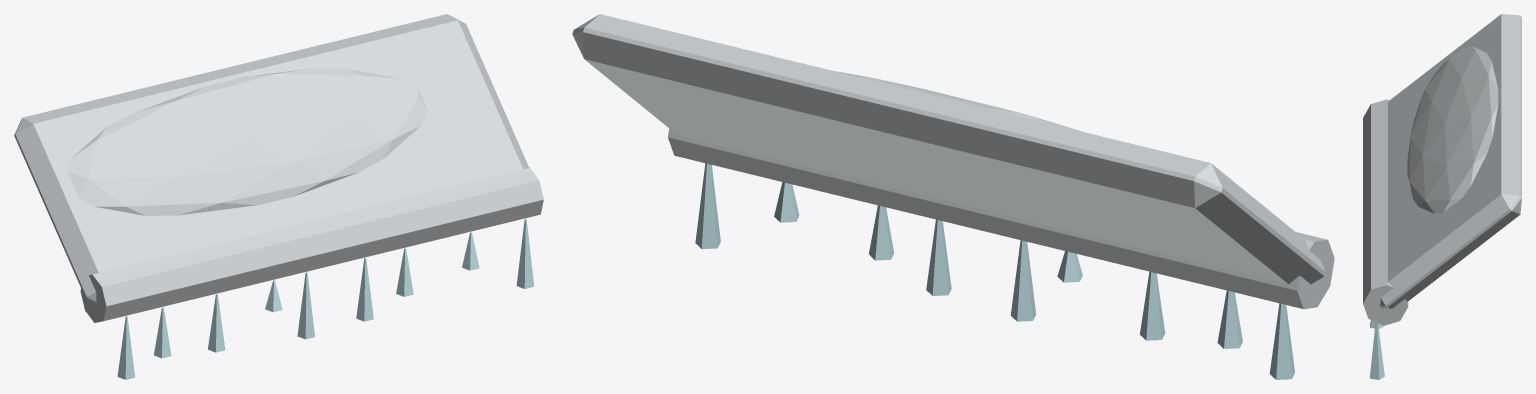
File: snow_eave_overlay.glb
The picture shows the model from 3 angles, left to right: view 1: azimuth 30°, elevation 25°; view 2: azimuth 150°, elevation 25°; view 3: azimuth 270°, elevation 25°; orthographic projection. The views are drawn at different scales.
Visible parts, largest first — view 1: snow_eave_overlay; view 2: snow_eave_overlay; view 3: snow_eave_overlay.
Part boxes in pixels (box(x1,y1,x2,y2)): snow_eave_overlay: box(14, 14, 543, 379); snow_eave_overlay: box(572, 14, 1334, 379); snow_eave_overlay: box(1363, 14, 1521, 379).
Size of the model in its own units: 1 by 0.4482 by 0.3509.
